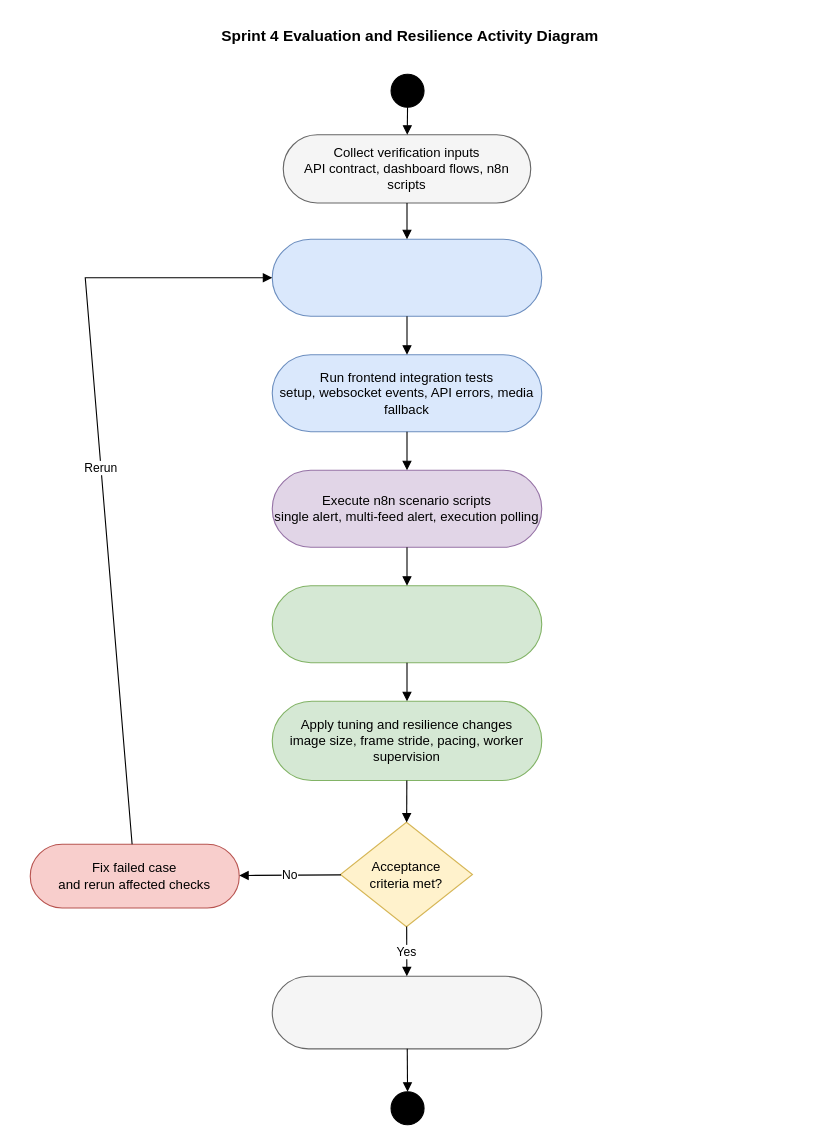
This 818x1144 diagram has some shape labels left out. Here are the shapes that lost their labels. From the top down, the box of each, then its label:
(271, 238, 542, 316): Run backend tests analytics, feed lifecycle, streaming, webhook payloads
(271, 585, 542, 663): Measure runtime behavior frame cadence, async webhook impact, stream continuity
(271, 975, 542, 1049): Document verified coverage automation, tests, performance, fault tolerance
